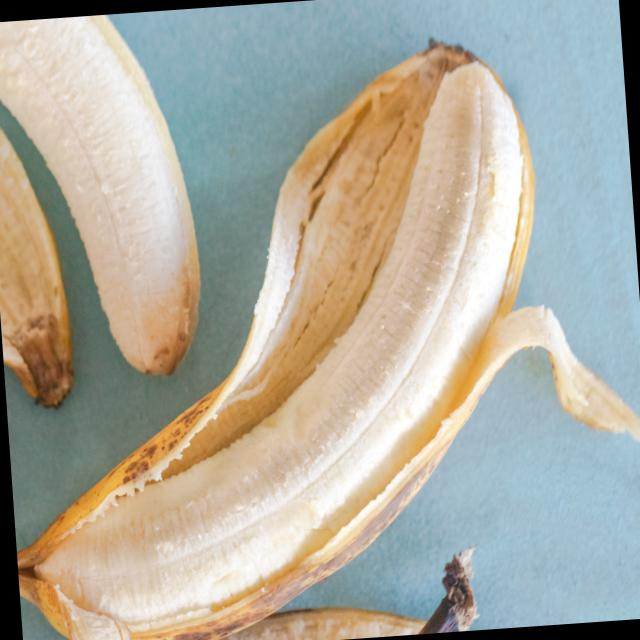banana_peel: (14, 40, 536, 640)
